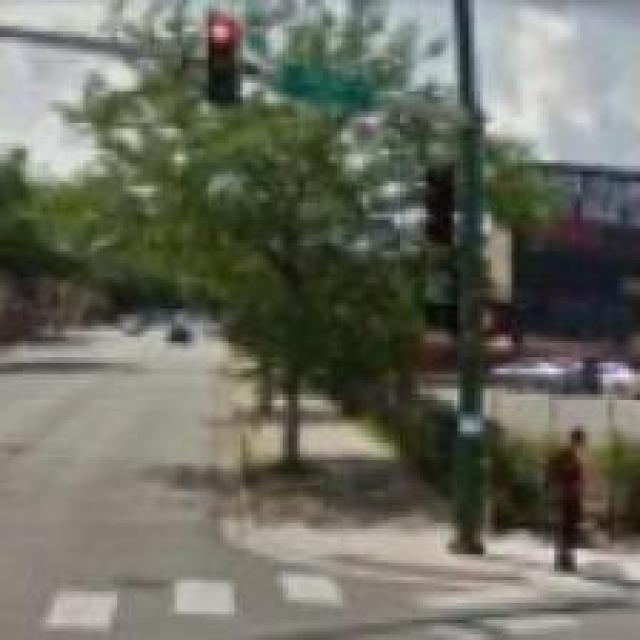walk-crossing: (20, 512, 406, 634)
